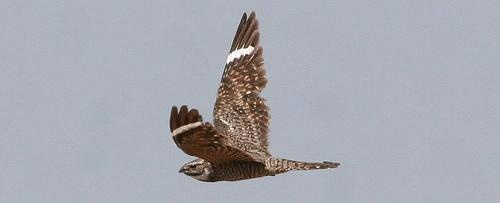bird: (159, 9, 342, 182)
